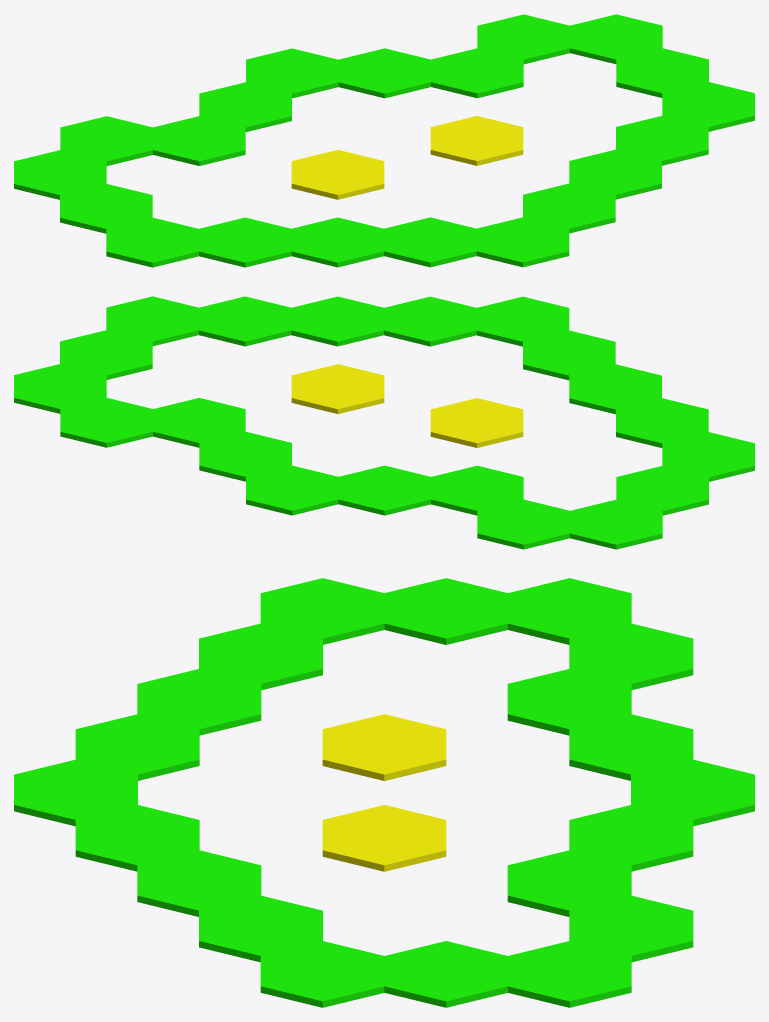
Rendered from GrassGuides.fbx.
3 views of the same model, one above another, from view 1: azimuth 30°, elevation 25°; view 2: azimuth 150°, elevation 25°; view 3: azimuth 270°, elevation 25° (orthographic). The views are drawn at different scales.
Parts seen in each view (by area): view 1: MasterHex_8, MasterHex_9, MasterHex_11, MasterHex_12, MasterHex_14, MasterHex_13, MasterHex, MasterHex_15, MasterHex_1, MasterHex_19, MasterHex_2, MasterHex_3 (+10 smaller); view 2: MasterHex_8, MasterHex_9, MasterHex_7, MasterHex_10, MasterHex_18, MasterHex_6, MasterHex_20, MasterHex_21, MasterHex_2, MasterHex_17, MasterHex_11, MasterHex (+10 smaller); view 3: MasterHex_8, MasterHex_9, MasterHex_5, MasterHex_3, MasterHex_16, MasterHex_4, MasterHex_13, MasterHex_1, MasterHex_19, MasterHex, MasterHex_2, MasterHex_10 (+10 smaller).
Part boxes in pixels (x1=…): MasterHex_8: x1=430, y1=116, x2=523, y2=165; MasterHex_9: x1=291, y1=150, x2=384, y2=199; MasterHex_11: x1=476, y1=217, x2=569, y2=267; MasterHex_12: x1=384, y1=217, x2=476, y2=267; MasterHex_14: x1=199, y1=217, x2=291, y2=267; MasterHex_13: x1=291, y1=217, x2=383, y2=267; MasterHex: x1=338, y1=48, x2=430, y2=98; MasterHex_15: x1=106, y1=217, x2=198, y2=267; MasterHex_1: x1=431, y1=48, x2=523, y2=98; MasterHex_19: x1=153, y1=116, x2=245, y2=165; MasterHex_2: x1=477, y1=14, x2=569, y2=64; MasterHex_3: x1=570, y1=14, x2=662, y2=64; MasterHex_8: x1=291, y1=364, x2=384, y2=413; MasterHex_9: x1=430, y1=398, x2=523, y2=447; MasterHex_7: x1=291, y1=296, x2=383, y2=346; MasterHex_10: x1=384, y1=296, x2=476, y2=346; MasterHex_18: x1=477, y1=499, x2=569, y2=549; MasterHex_6: x1=199, y1=296, x2=291, y2=346; MasterHex_20: x1=338, y1=465, x2=430, y2=515; MasterHex_21: x1=246, y1=465, x2=338, y2=515; MasterHex_2: x1=60, y1=398, x2=152, y2=447; MasterHex_17: x1=570, y1=499, x2=662, y2=549; MasterHex_11: x1=476, y1=296, x2=569, y2=346; MasterHex: x1=199, y1=431, x2=291, y2=481; MasterHex_8: x1=322, y1=805, x2=446, y2=871; MasterHex_9: x1=322, y1=714, x2=446, y2=780; MasterHex_5: x1=260, y1=941, x2=384, y2=1007; MasterHex_3: x1=507, y1=941, x2=631, y2=1007; MasterHex_16: x1=384, y1=578, x2=508, y2=644; MasterHex_4: x1=384, y1=941, x2=508, y2=1007; MasterHex_13: x1=137, y1=669, x2=261, y2=735; MasterHex_1: x1=507, y1=850, x2=631, y2=916; MasterHex_19: x1=507, y1=669, x2=631, y2=735; MasterHex: x1=569, y1=805, x2=693, y2=871; MasterHex_2: x1=569, y1=895, x2=693, y2=962; MasterHex_10: x1=75, y1=805, x2=199, y2=871.
Bounding box in the file's own units: 14000 × 100 × 10357.
